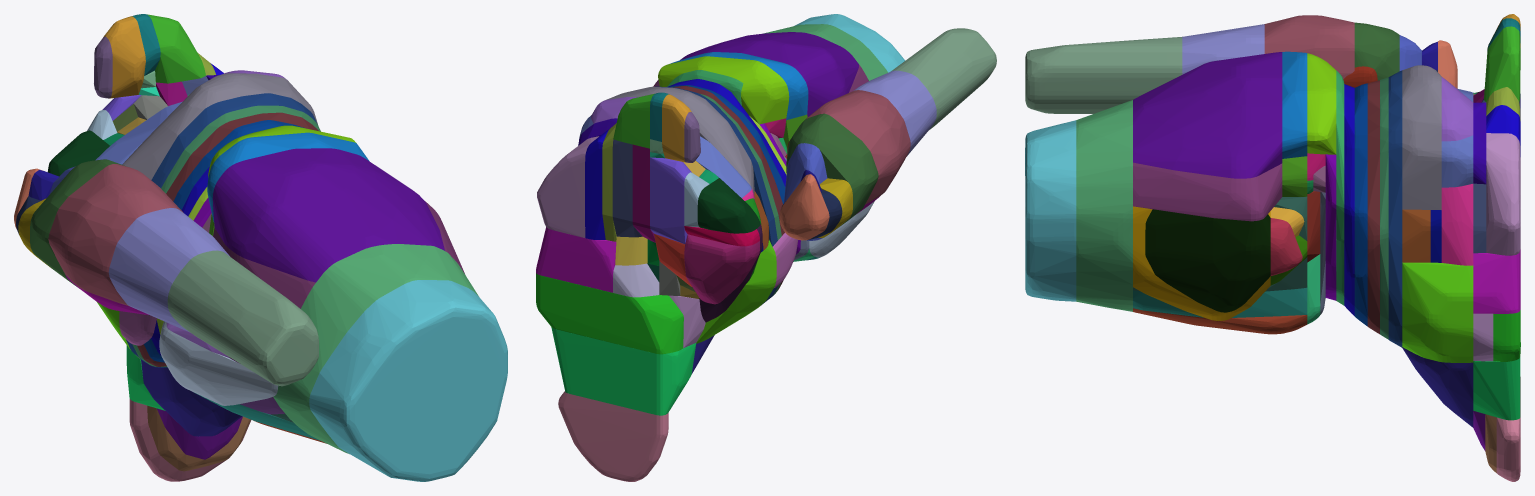
Rendered from distal_132_coacd.obj.
3 renders of one model, left to right at view 1: azimuth 30°, elevation 25°; view 2: azimuth 150°, elevation 25°; view 3: azimuth 270°, elevation 25°, orthographic. The views are drawn at different scales.
Parts seen in each view (by area): view 1: geometry_2, geometry_27, geometry_0, geometry_3, geometry_13, geometry_12, geometry_6, geometry_45, geometry_18, geometry_29, geometry_44, geometry_19 (+23 smaller); view 2: geometry_23, geometry_50, geometry_24, geometry_27, geometry_0, geometry_13, geometry_19, geometry_4, geometry_22, geometry_56, geometry_73, geometry_45 (+37 smaller); view 3: geometry_27, geometry_3, geometry_57, geometry_0, geometry_2, geometry_17, geometry_28, geometry_45, geometry_73, geometry_44, geometry_13, geometry_42 (+38 smaller).
Boxes of the visible parts, x1,y1,x2,y2 form: geometry_2: (309,280,507,481); geometry_27: (212,148,444,282); geometry_0: (167,250,318,386); geometry_3: (273,244,478,454); geometry_13: (48,164,183,306); geometry_12: (108,208,229,332); geometry_6: (159,321,278,405); geometry_45: (122,73,317,179); geometry_18: (141,360,241,436); geometry_29: (207,132,369,222); geometry_44: (126,93,316,367); geometry_19: (30,159,125,287); geometry_23: (551,327,696,415); geometry_50: (536,273,683,354); geometry_24: (558,391,668,481); geometry_27: (680,32,858,116); geometry_0: (891,28,996,129); geometry_13: (806,90,910,204); geometry_19: (786,113,878,228); geometry_4: (658,56,789,124); geometry_22: (536,227,616,292); geometry_56: (684,234,759,304); geometry_73: (537,136,598,237); geometry_45: (605,86,754,194); geometry_27: (1133,52,1282,178); geometry_3: (1076,100,1132,311); geometry_57: (1145,209,1270,312); geometry_0: (1025,37,1182,113); geometry_2: (1025,120,1076,301); geometry_17: (1402,262,1473,362); geometry_28: (1133,162,1282,221); geometry_45: (1402,65,1441,209); geometry_73: (1486,133,1520,255); geometry_44: (1388,70,1402,347); geometry_13: (1264,15,1354,78); geometry_42: (1354,83,1367,326).
Bounding box in the file's own units: 0.0564 × 0.0764 × 0.0792.
